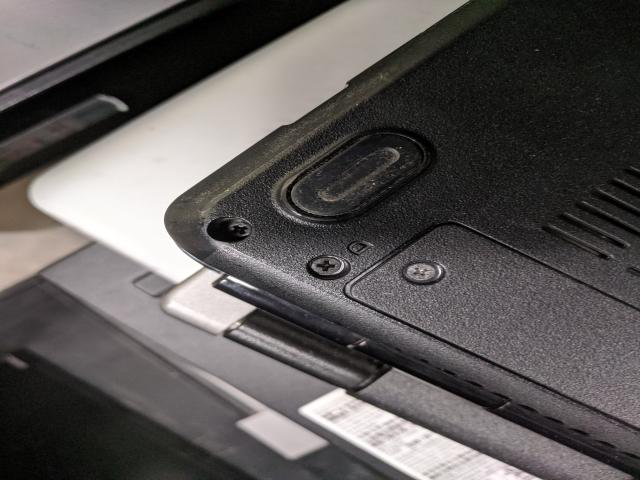CRS: (402, 262, 441, 284), (310, 257, 346, 276), (224, 222, 258, 240)
